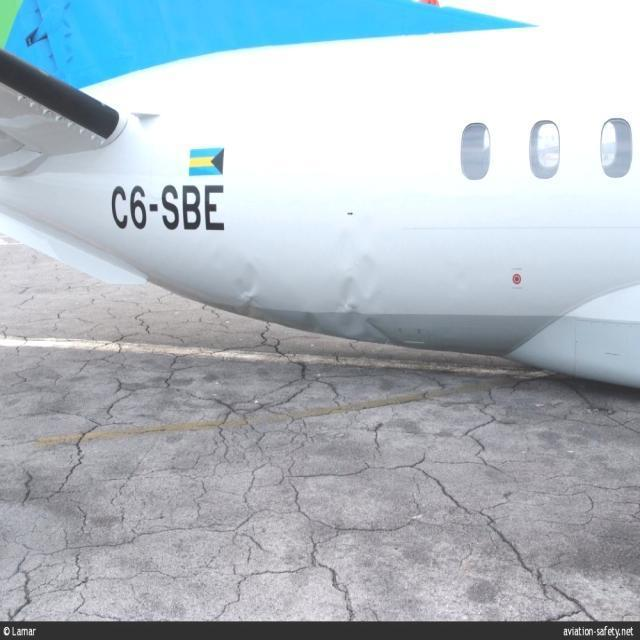dent: (328, 237, 380, 343), (226, 256, 266, 321)
